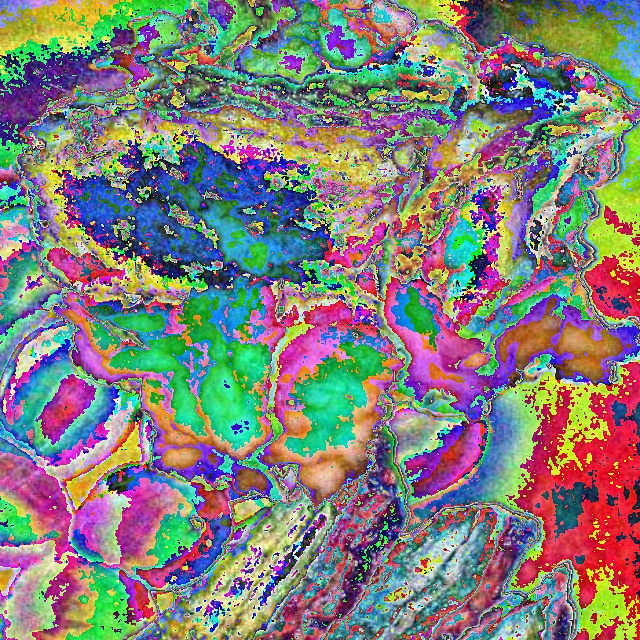background: (13, 0, 639, 640)
